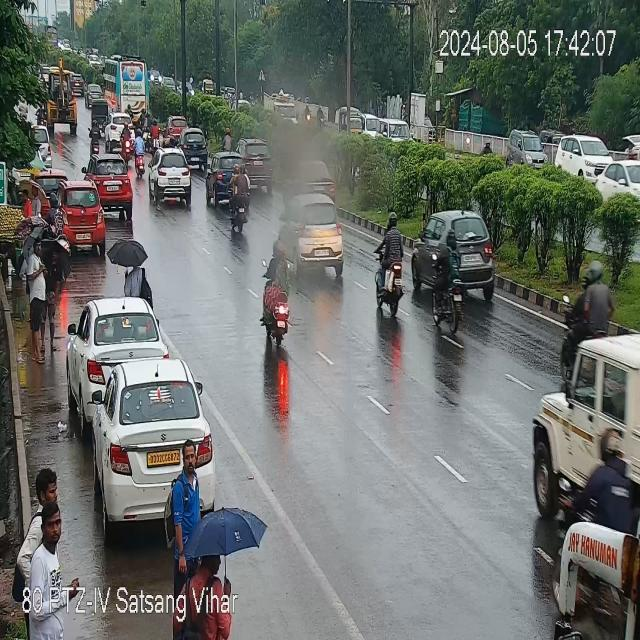2-wheelers: (560, 262, 610, 374), (370, 220, 406, 317), (426, 242, 464, 333), (259, 262, 296, 343), (587, 431, 628, 496), (226, 166, 252, 231), (136, 133, 148, 174), (120, 122, 132, 162), (150, 118, 161, 151), (91, 118, 101, 154), (140, 110, 148, 141), (317, 104, 328, 125), (482, 138, 494, 157), (224, 127, 233, 151), (303, 105, 312, 122)
auto: (90, 99, 112, 131), (341, 106, 362, 136), (89, 102, 109, 125)
bus: (544, 454, 636, 638), (106, 56, 154, 115)
car: (78, 359, 217, 524), (539, 340, 640, 496), (68, 300, 165, 404), (413, 210, 502, 292), (292, 196, 348, 275), (58, 186, 107, 247), (548, 133, 612, 177), (91, 156, 135, 208), (150, 154, 197, 200), (354, 117, 414, 147), (599, 162, 640, 205), (508, 127, 545, 172), (238, 138, 274, 183), (306, 159, 337, 197), (206, 149, 228, 202), (182, 132, 211, 164), (36, 126, 52, 168), (167, 111, 184, 139), (86, 83, 99, 104)
pedestrian: (22, 517, 71, 618), (182, 556, 240, 638), (171, 450, 206, 579), (25, 242, 50, 363), (125, 257, 152, 302), (50, 193, 62, 234), (31, 185, 43, 217), (22, 190, 32, 219)
truck: (44, 68, 82, 132)
